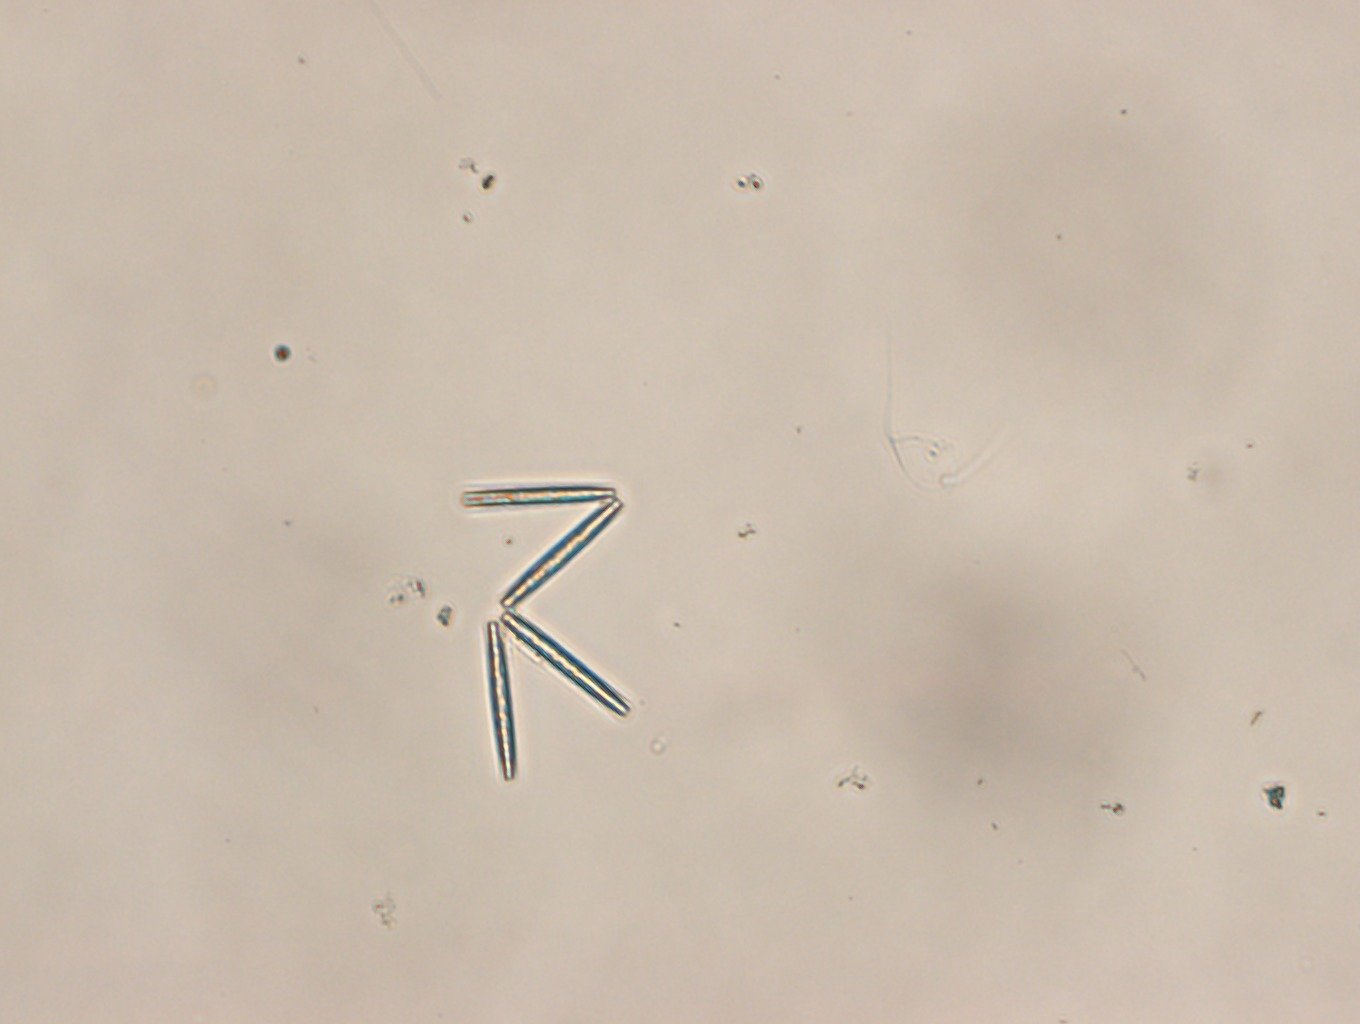thalassionema nitzschioides: (459, 484, 629, 782)
